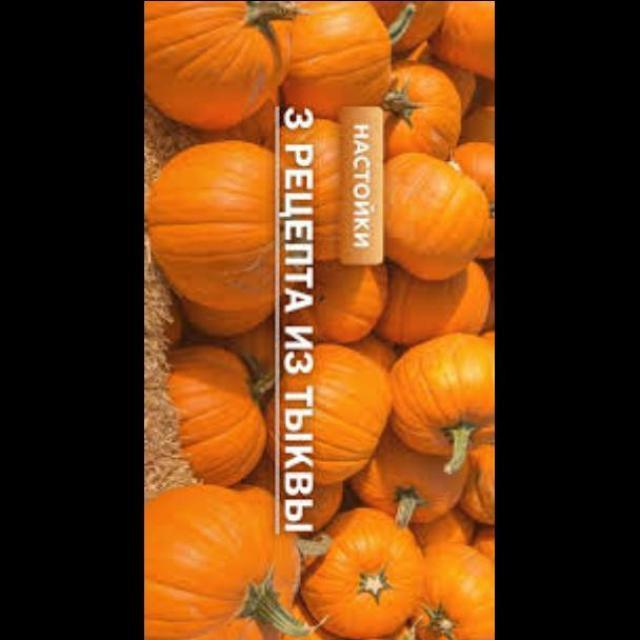Pumpkin: (146, 489, 322, 639), (146, 144, 298, 311), (146, 0, 298, 141), (146, 340, 279, 494), (281, 339, 397, 497), (268, 117, 387, 270), (382, 322, 496, 474), (306, 506, 433, 640), (279, 0, 403, 137), (378, 145, 496, 284), (344, 439, 477, 542), (366, 255, 496, 351), (286, 245, 399, 353), (378, 48, 469, 176), (420, 538, 496, 639), (424, 0, 496, 84), (368, 0, 457, 63), (449, 432, 496, 534)
